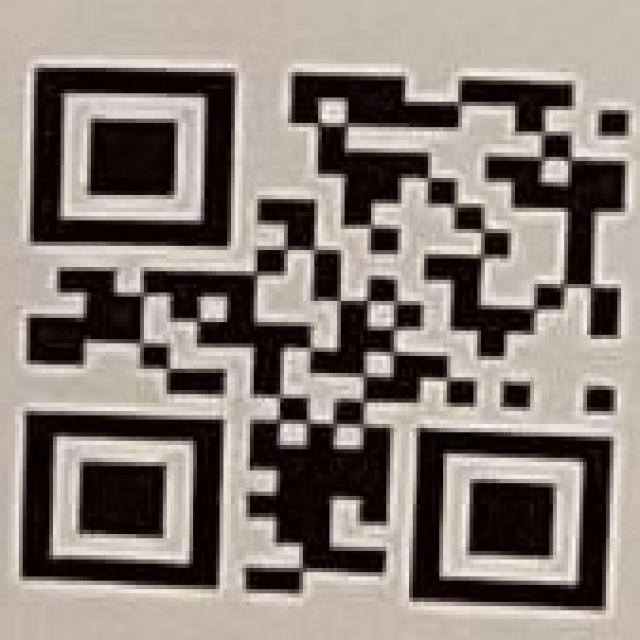QR_CODE: (17, 62, 631, 612)
